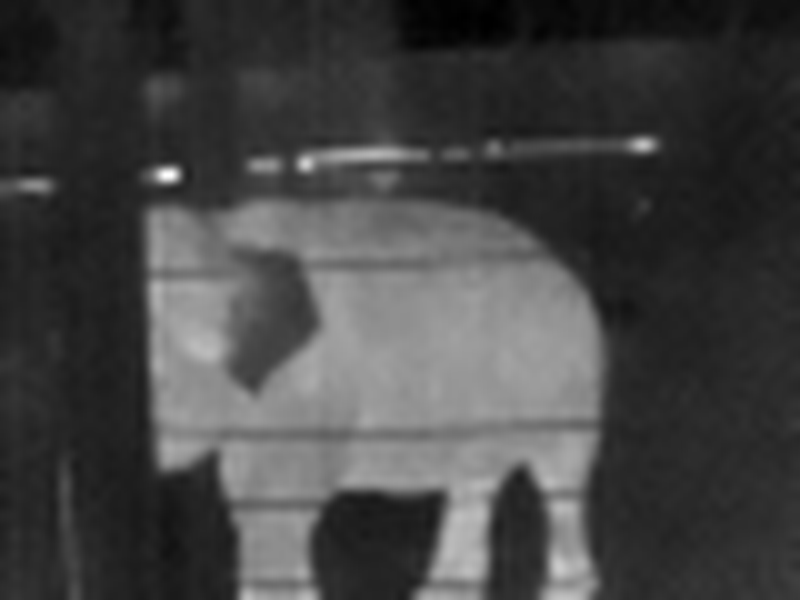elephant: (39, 195, 604, 592)
